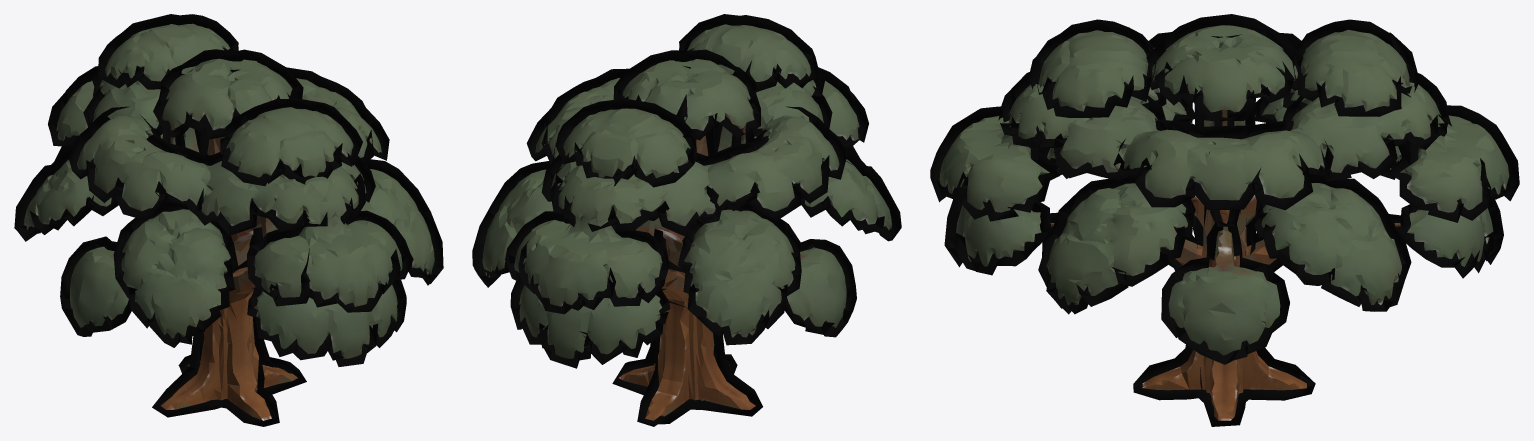
File: Ghibli_Tree_E.glb
3 views of the same model, side by side, from view 1: azimuth 30°, elevation 25°; view 2: azimuth 150°, elevation 25°; view 3: azimuth 270°, elevation 25° (orthographic). The views are drawn at different scales.
Parts seen in each view (by area): view 1: TreeE, TreeE_OutlineHull; view 2: TreeE, TreeE_OutlineHull; view 3: TreeE, TreeE_OutlineHull.
Part boxes in pixels (bbox=[...]): TreeE: bbox=[24, 23, 434, 420]; TreeE_OutlineHull: bbox=[14, 14, 443, 426]; TreeE: bbox=[482, 24, 891, 420]; TreeE_OutlineHull: bbox=[472, 14, 901, 426]; TreeE: bbox=[939, 25, 1509, 420]; TreeE_OutlineHull: bbox=[930, 14, 1519, 426].
Bounding box in the file's own units: 1.33 × 1.33 × 1.96.
Materials: 2 (1 with a texture image).
